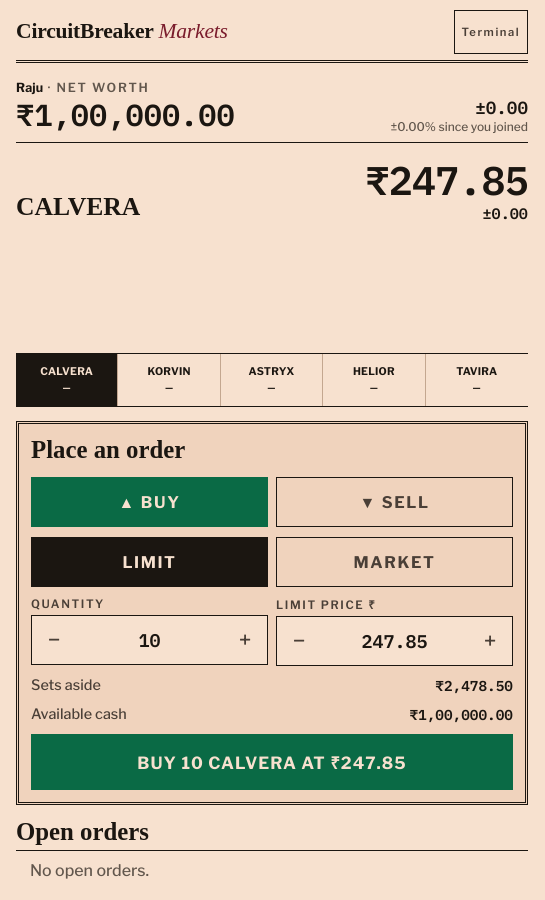
placing an order from a phone on http (paper theme) › when the server refuses, says so and logs the error
Step 1. Click the button "BUY 10 CALVERA AT ₹247.85" → (272, 762), box [31,734,513,790]
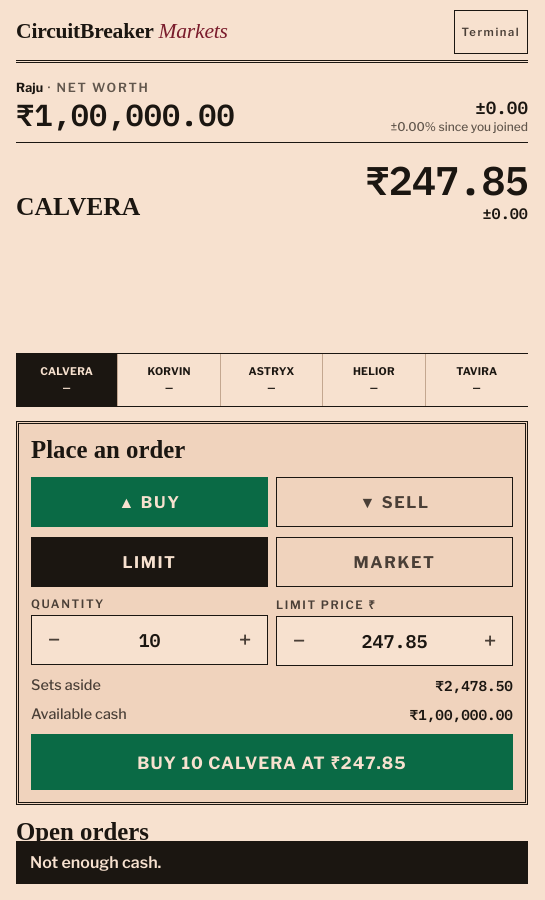
Expected: the message reads "Not enough cash.", [30,853,161,872]
